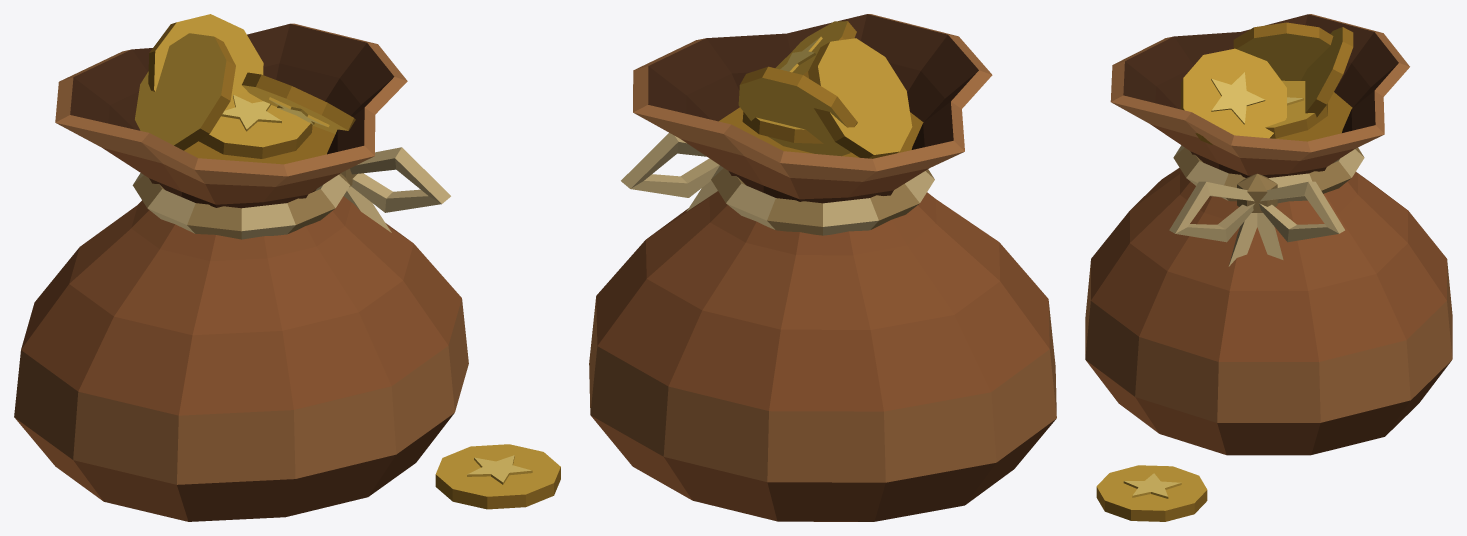
File: treasure_pouch.glb
3 views of the same model, side by side, from view 1: azimuth 30°, elevation 25°; view 2: azimuth 150°, elevation 25°; view 3: azimuth 270°, elevation 25° (orthographic). The views are drawn at different scales.
Visible parts, largest first — view 1: treasure_pouch; view 2: treasure_pouch; view 3: treasure_pouch.
Boxes of the visible parts, x1,y1,x2,y2 form: treasure_pouch: (14, 14, 560, 521); treasure_pouch: (589, 14, 1056, 521); treasure_pouch: (1085, 14, 1452, 521).
Size of the model in its own units: 0.1531 by 0.1471 by 0.1256.
